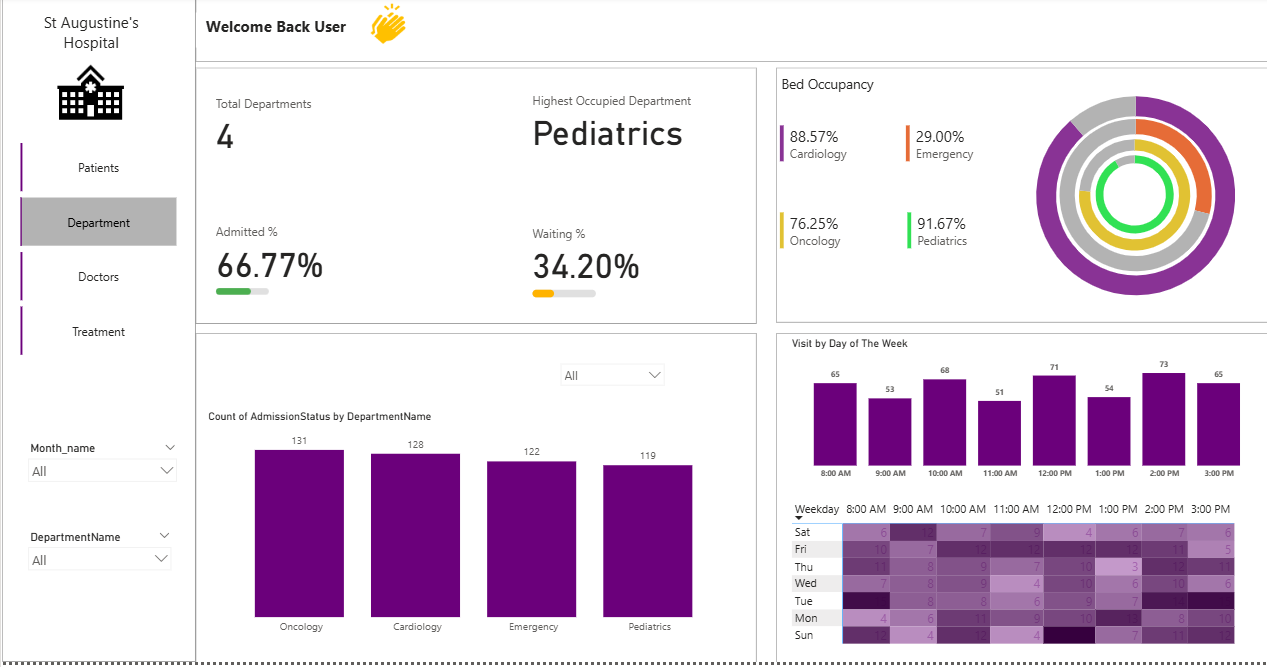

What the dashboard file says about the page in this screenshot:
{"tool":"powerbi","page":{"name":"Department","canvas":[2000,1050],"ordinal":1},"visuals":[{"type":"shape","box":[306.8,0,1693.4,103.9],"z":0},{"type":"textbox","box":[285.1,26.6,299.5,55.6],"z":1000},{"type":"shape","box":[1222.3,113.5,777.9,401],"z":2000},{"type":"multiRowCard","title":"Cardiology","fields":{"Values":["Calculated_measures.Admitted %"]},"box":[1222.3,198.1,161.9,82.1],"z":3000},{"type":"multiRowCard","title":"Emergency","fields":{"Values":["Calculated_measures.Admitted %"]},"box":[1422.8,198.1,161.9,82.1],"z":4000},{"type":"multiRowCard","title":"Oncology","fields":{"Values":["Calculated_measures.Admitted %"]},"box":[1222.3,335.8,161.9,79.7],"z":5000},{"type":"multiRowCard","title":"Pediatrics","fields":{"Values":["Calculated_measures.Admitted %"]},"box":[1425.3,335.8,159.4,79.7],"z":6000},{"type":"textbox","box":[1224.8,118.4,280.2,53.1],"z":7000},{"type":"group","id":"g1","title":"Group 1","box":[1562.5,112.5,437.5,402.5],"z":8000},{"type":"shape","box":[306.8,113.5,884.1,403.4],"z":9000},{"type":"shape","box":[306.8,531.5,884.1,519.4],"z":10000},{"type":"shape","box":[1222.3,531.5,777.9,519.4],"z":11000},{"type":"donutChart","fields":{"Y":["Calculated_measures.Admitted %","Calculated_measures.Admitted % diff"]},"box":[1562.5,112.5,455.9,402.5],"z":12000,"group":"g1"},{"type":"clusteredColumnChart","fields":{"Category":["Department_Dim.DepartmentName"],"Y":["CountNonNull(Fact_table.AdmissionStatus)"]},"box":[321.3,652.2,852.7,362.4],"z":12000},{"type":"donutChart","fields":{"Y":["Calculated_measures.Admitted %","Calculated_measures.Admitted % diff"]},"box":[1589.8,157.5,399.1,310.3],"z":13000,"group":"g1"},{"type":"slicer","fields":{"Values":["Fact_table.AdmissionStatus"]},"box":[874,569.9,183.1,65],"z":13000},{"type":"donutChart","fields":{"Y":["Calculated_measures.Admitted %","Calculated_measures.Admitted % diff"]},"box":[1621.3,197.9,334,229.4],"z":14000,"group":"g1"},{"type":"cardVisual","fields":{"Data":["Calculated_measures.Admitted %"]},"box":[321.9,336.6,268.7,162.4],"z":14000},{"type":"donutChart","fields":{"Y":["Calculated_measures.Admitted %","Calculated_measures.Admitted % diff"]},"box":[1707.4,227.2,163.9,170.9],"z":15000,"group":"g1"},{"type":"cardVisual","fields":{"Data":["Calculated_measures.Waiting %"]},"box":[819.9,336.6,360.2,168.3],"z":15000},{"type":"cardVisual","fields":{"Data":["Calculated_measures.Total Departments"]},"box":[321.9,127,333.7,153.5],"z":16000},{"type":"cardVisual","fields":{"Data":["Min(Department_Dim.DepartmentName)"]},"box":[820.9,118.1,324.8,162.4],"z":17000},{"type":"pivotTable","fields":{"Rows":["Calendar_Dim.Weekday"],"Columns":["Fact_table.Formatted Time"],"Values":["CountNonNull(Fact_table.VisitID)"]},"box":[1243.1,791.3,729.3,239.2],"z":18000},{"type":"clusteredColumnChart","title":"Visit by Day of The Week","fields":{"Category":["Fact_table.Formatted Time"],"Y":["CountNonNull(Fact_table.VisitID)"]},"box":[1243.1,537.4,753,233.3],"z":19000},{"type":"shape","box":[2.4,0,304.4,1050],"z":20000},{"type":"textbox","box":[45,20,195,85],"z":21000},{"type":"slicer","fields":{"Values":["Calendar_Dim.Month_name"]},"box":[32.5,696.9,253.9,76.8],"z":22000},{"type":"slicer","fields":{"Values":["Department_Dim.DepartmentName"]},"box":[32.5,838.6,245.1,85.6],"z":23000},{"type":"pageNavigator","box":[31.4,231.9,246.4,335.8],"z":24000},{"type":"image","box":[53.1,87,178.8,132.9],"z":25000},{"type":"image","box":[562.9,0,94.2,87],"z":26000}]}

Visuals, with their boxes on the page's 2000x1050 design canvas (x1, y1, x2, y2). These are canvas units, not pixel positions in the 1267x667 screenshot, which may show the page scaled, cropped or inside an application window:
shape: 307/0/2000/104
textbox: 285/27/585/82
shape: 1222/114/2000/514
"Cardiology" multiRowCard: 1222/198/1384/280
"Emergency" multiRowCard: 1423/198/1585/280
"Oncology" multiRowCard: 1222/336/1384/416
"Pediatrics" multiRowCard: 1425/336/1585/416
textbox: 1225/118/1505/172
"Group 1" group: 1562/112/2000/515
shape: 307/114/1191/517
shape: 307/532/1191/1051
shape: 1222/532/2000/1051
donutChart - Calculated_measures.Admitted % x Calculated_measures.Admitted % diff: 1562/112/2018/515
clusteredColumnChart - Department_Dim.DepartmentName x CountNonNull(Fact_table.AdmissionStatus): 321/652/1174/1015
donutChart - Calculated_measures.Admitted % x Calculated_measures.Admitted % diff: 1590/158/1989/468
slicer - Fact_table.AdmissionStatus: 874/570/1057/635
donutChart - Calculated_measures.Admitted % x Calculated_measures.Admitted % diff: 1621/198/1955/427
cardVisual - Calculated_measures.Admitted %: 322/337/591/499
donutChart - Calculated_measures.Admitted % x Calculated_measures.Admitted % diff: 1707/227/1871/398
cardVisual - Calculated_measures.Waiting %: 820/337/1180/505
cardVisual - Calculated_measures.Total Departments: 322/127/656/280
cardVisual - Min(Department_Dim.DepartmentName): 821/118/1146/280
pivotTable - Calendar_Dim.Weekday x Fact_table.Formatted Time: 1243/791/1972/1030
"Visit by Day of The Week" clusteredColumnChart: 1243/537/1996/771
shape: 2/0/307/1050
textbox: 45/20/240/105
slicer - Calendar_Dim.Month_name: 32/697/286/774
slicer - Department_Dim.DepartmentName: 32/839/278/924
pageNavigator: 31/232/278/568
image: 53/87/232/220
image: 563/0/657/87
